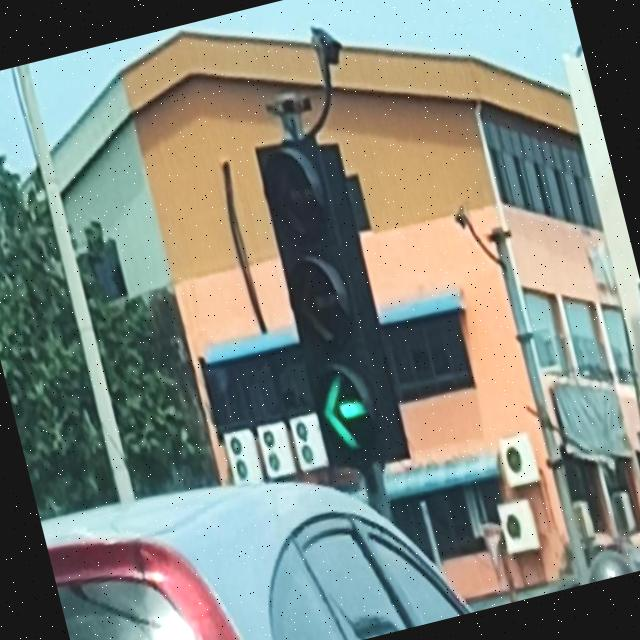green_light: (250, 131, 394, 463)
